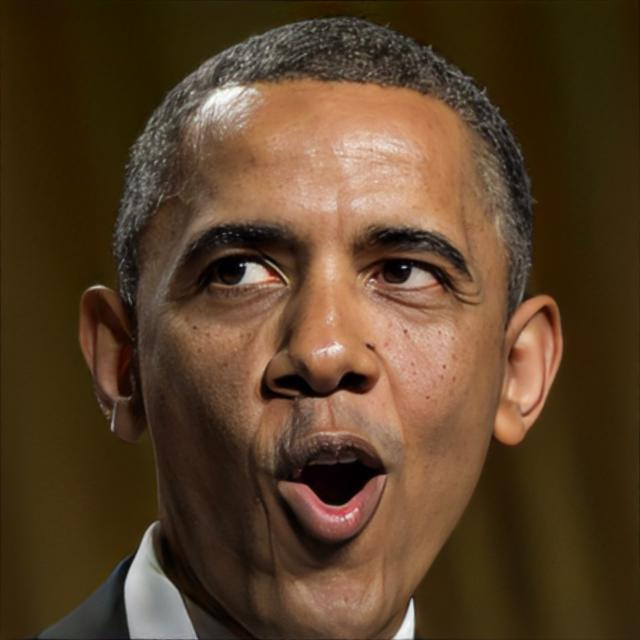surprise: (138, 74, 506, 639)
